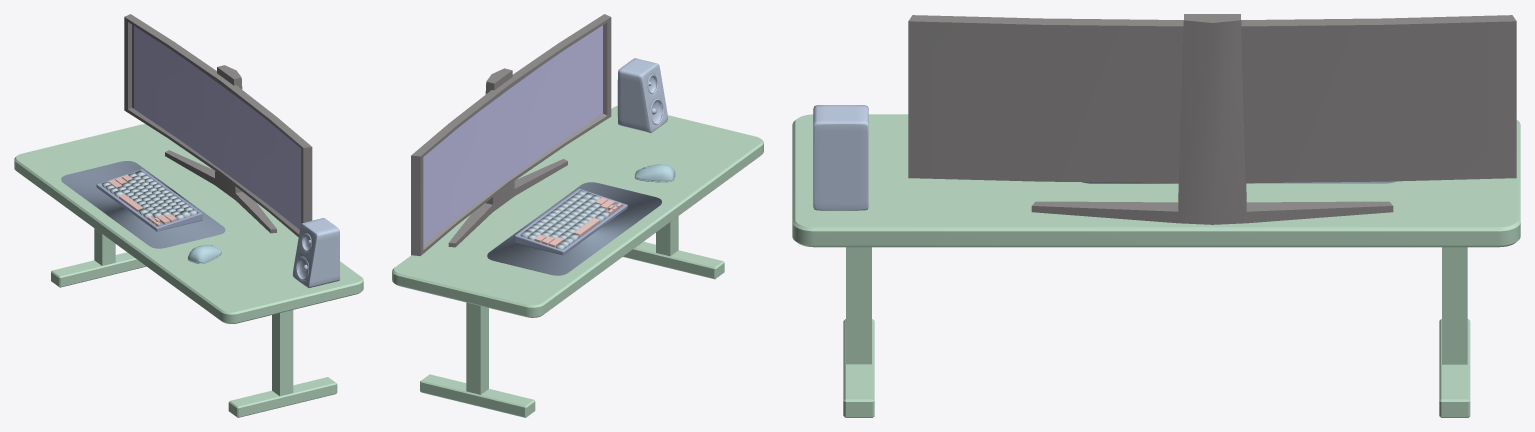
The picture shows the model from 3 angles, left to right: view 1: azimuth 30°, elevation 25°; view 2: azimuth 150°, elevation 25°; view 3: azimuth 270°, elevation 25°; orthographic projection. The views are drawn at different scales.
Parts seen in each view (by area): view 1: Merged Geometry (×2), Cube 59, Merged Geometry 10, Rectangle 3, Cube 2, Group 40, Cube 4, Cube; view 2: Merged Geometry (×2), Cube 59, Merged Geometry 10, Rectangle 3, Cube 2, Group 40, Cube 4, Cube; view 3: Merged Geometry 10, Merged Geometry, Cube 2.
Part boxes in pixels (x1,y1,x2,y2): Merged Geometry (×2): (14, 124, 363, 417); Cube 59: (134, 26, 300, 229); Merged Geometry 10: (124, 14, 312, 236); Rectangle 3: (61, 161, 225, 248); Cube 2: (292, 218, 339, 287); Group 40: (101, 172, 196, 219); Cube 4: (96, 169, 202, 231); Cube: (188, 245, 221, 263); Merged Geometry (×2): (392, 106, 763, 417); Cube 59: (423, 25, 602, 244); Merged Geometry 10: (411, 14, 611, 256); Rectangle 3: (487, 182, 661, 275); Cube 2: (617, 58, 667, 132); Group 40: (527, 190, 609, 249); Cube 4: (514, 188, 627, 255); Cube: (634, 164, 675, 182); Merged Geometry 10: (908, 14, 1516, 224); Merged Geometry: (792, 114, 1520, 417); Cube 2: (813, 105, 868, 210).
Size of the model in its own units: 1.24 by 2.02 by 3.31.
